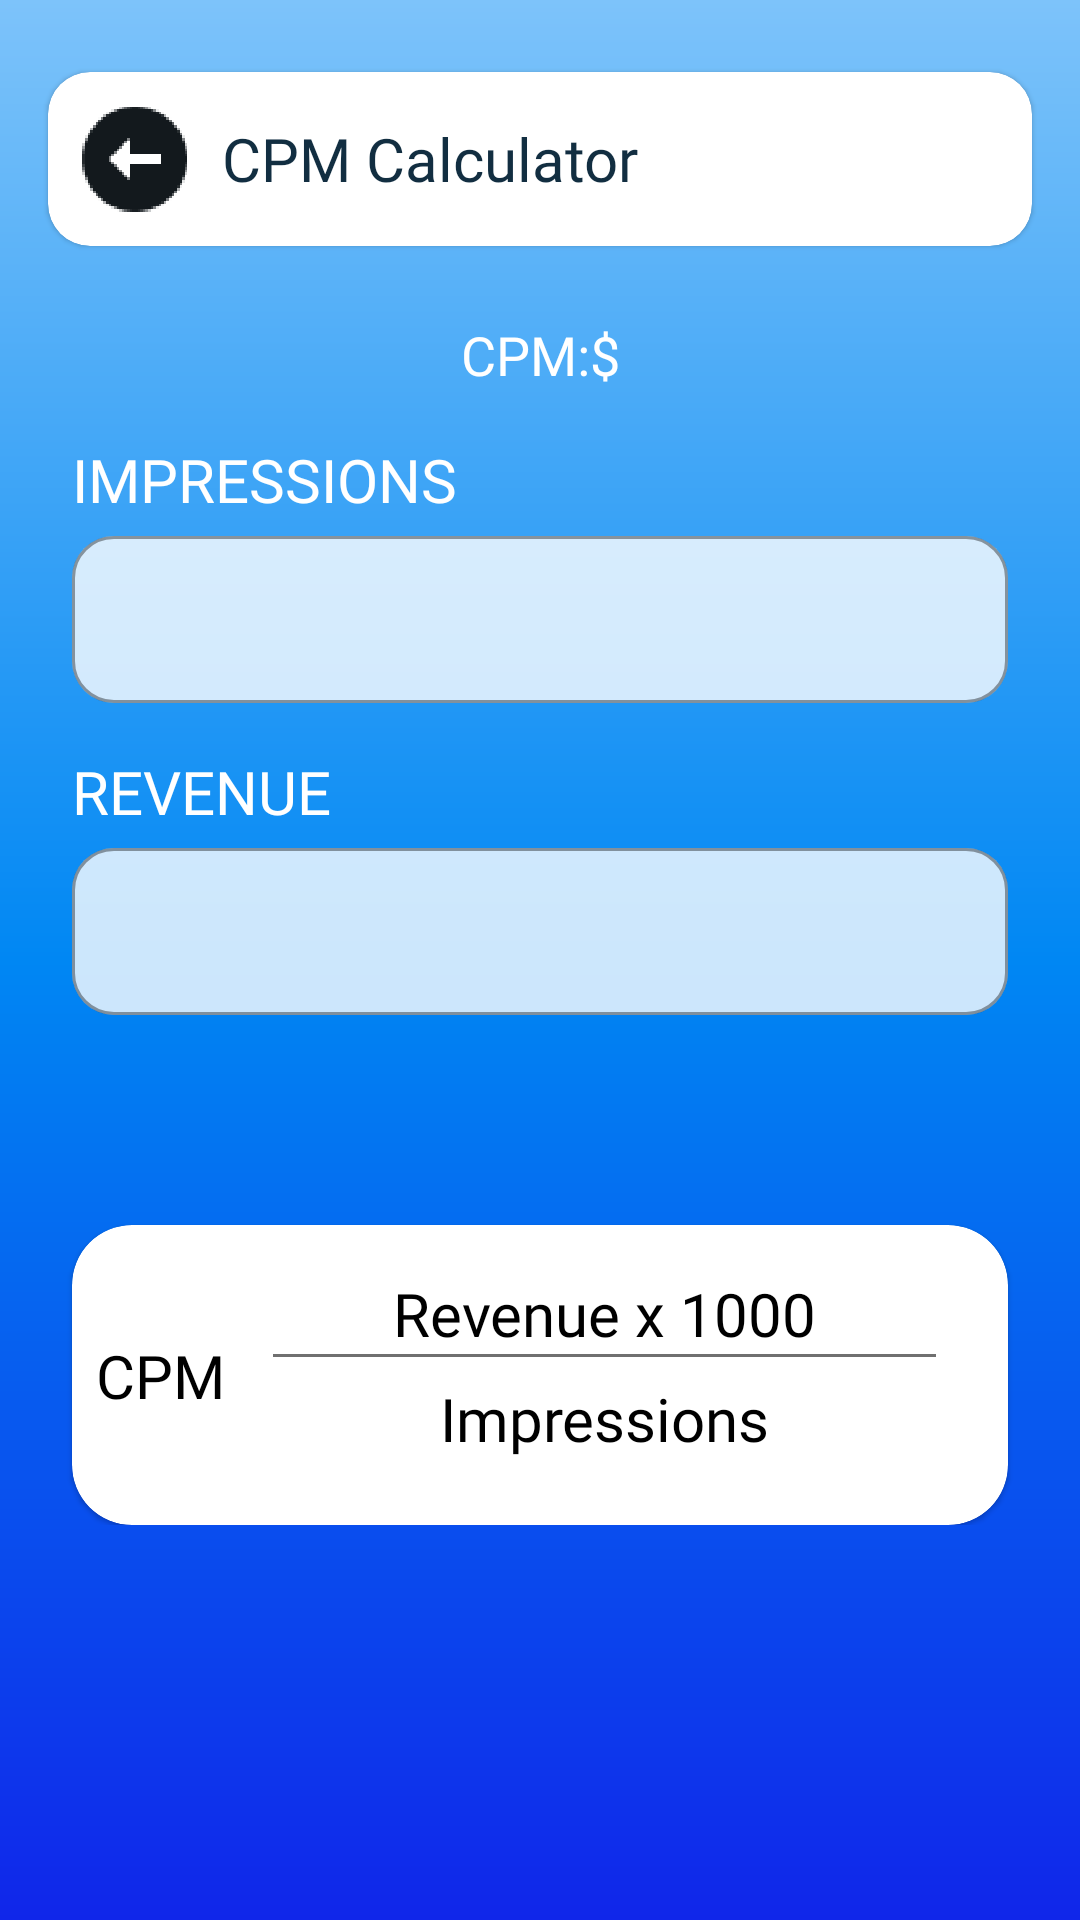

Icon bounding boxes for this 1080w x 1920h phone screenshot, format (left=x1, top=y1, right=x2, bottom=y2):
scroll back: (left=82, top=107, right=187, bottom=212)
